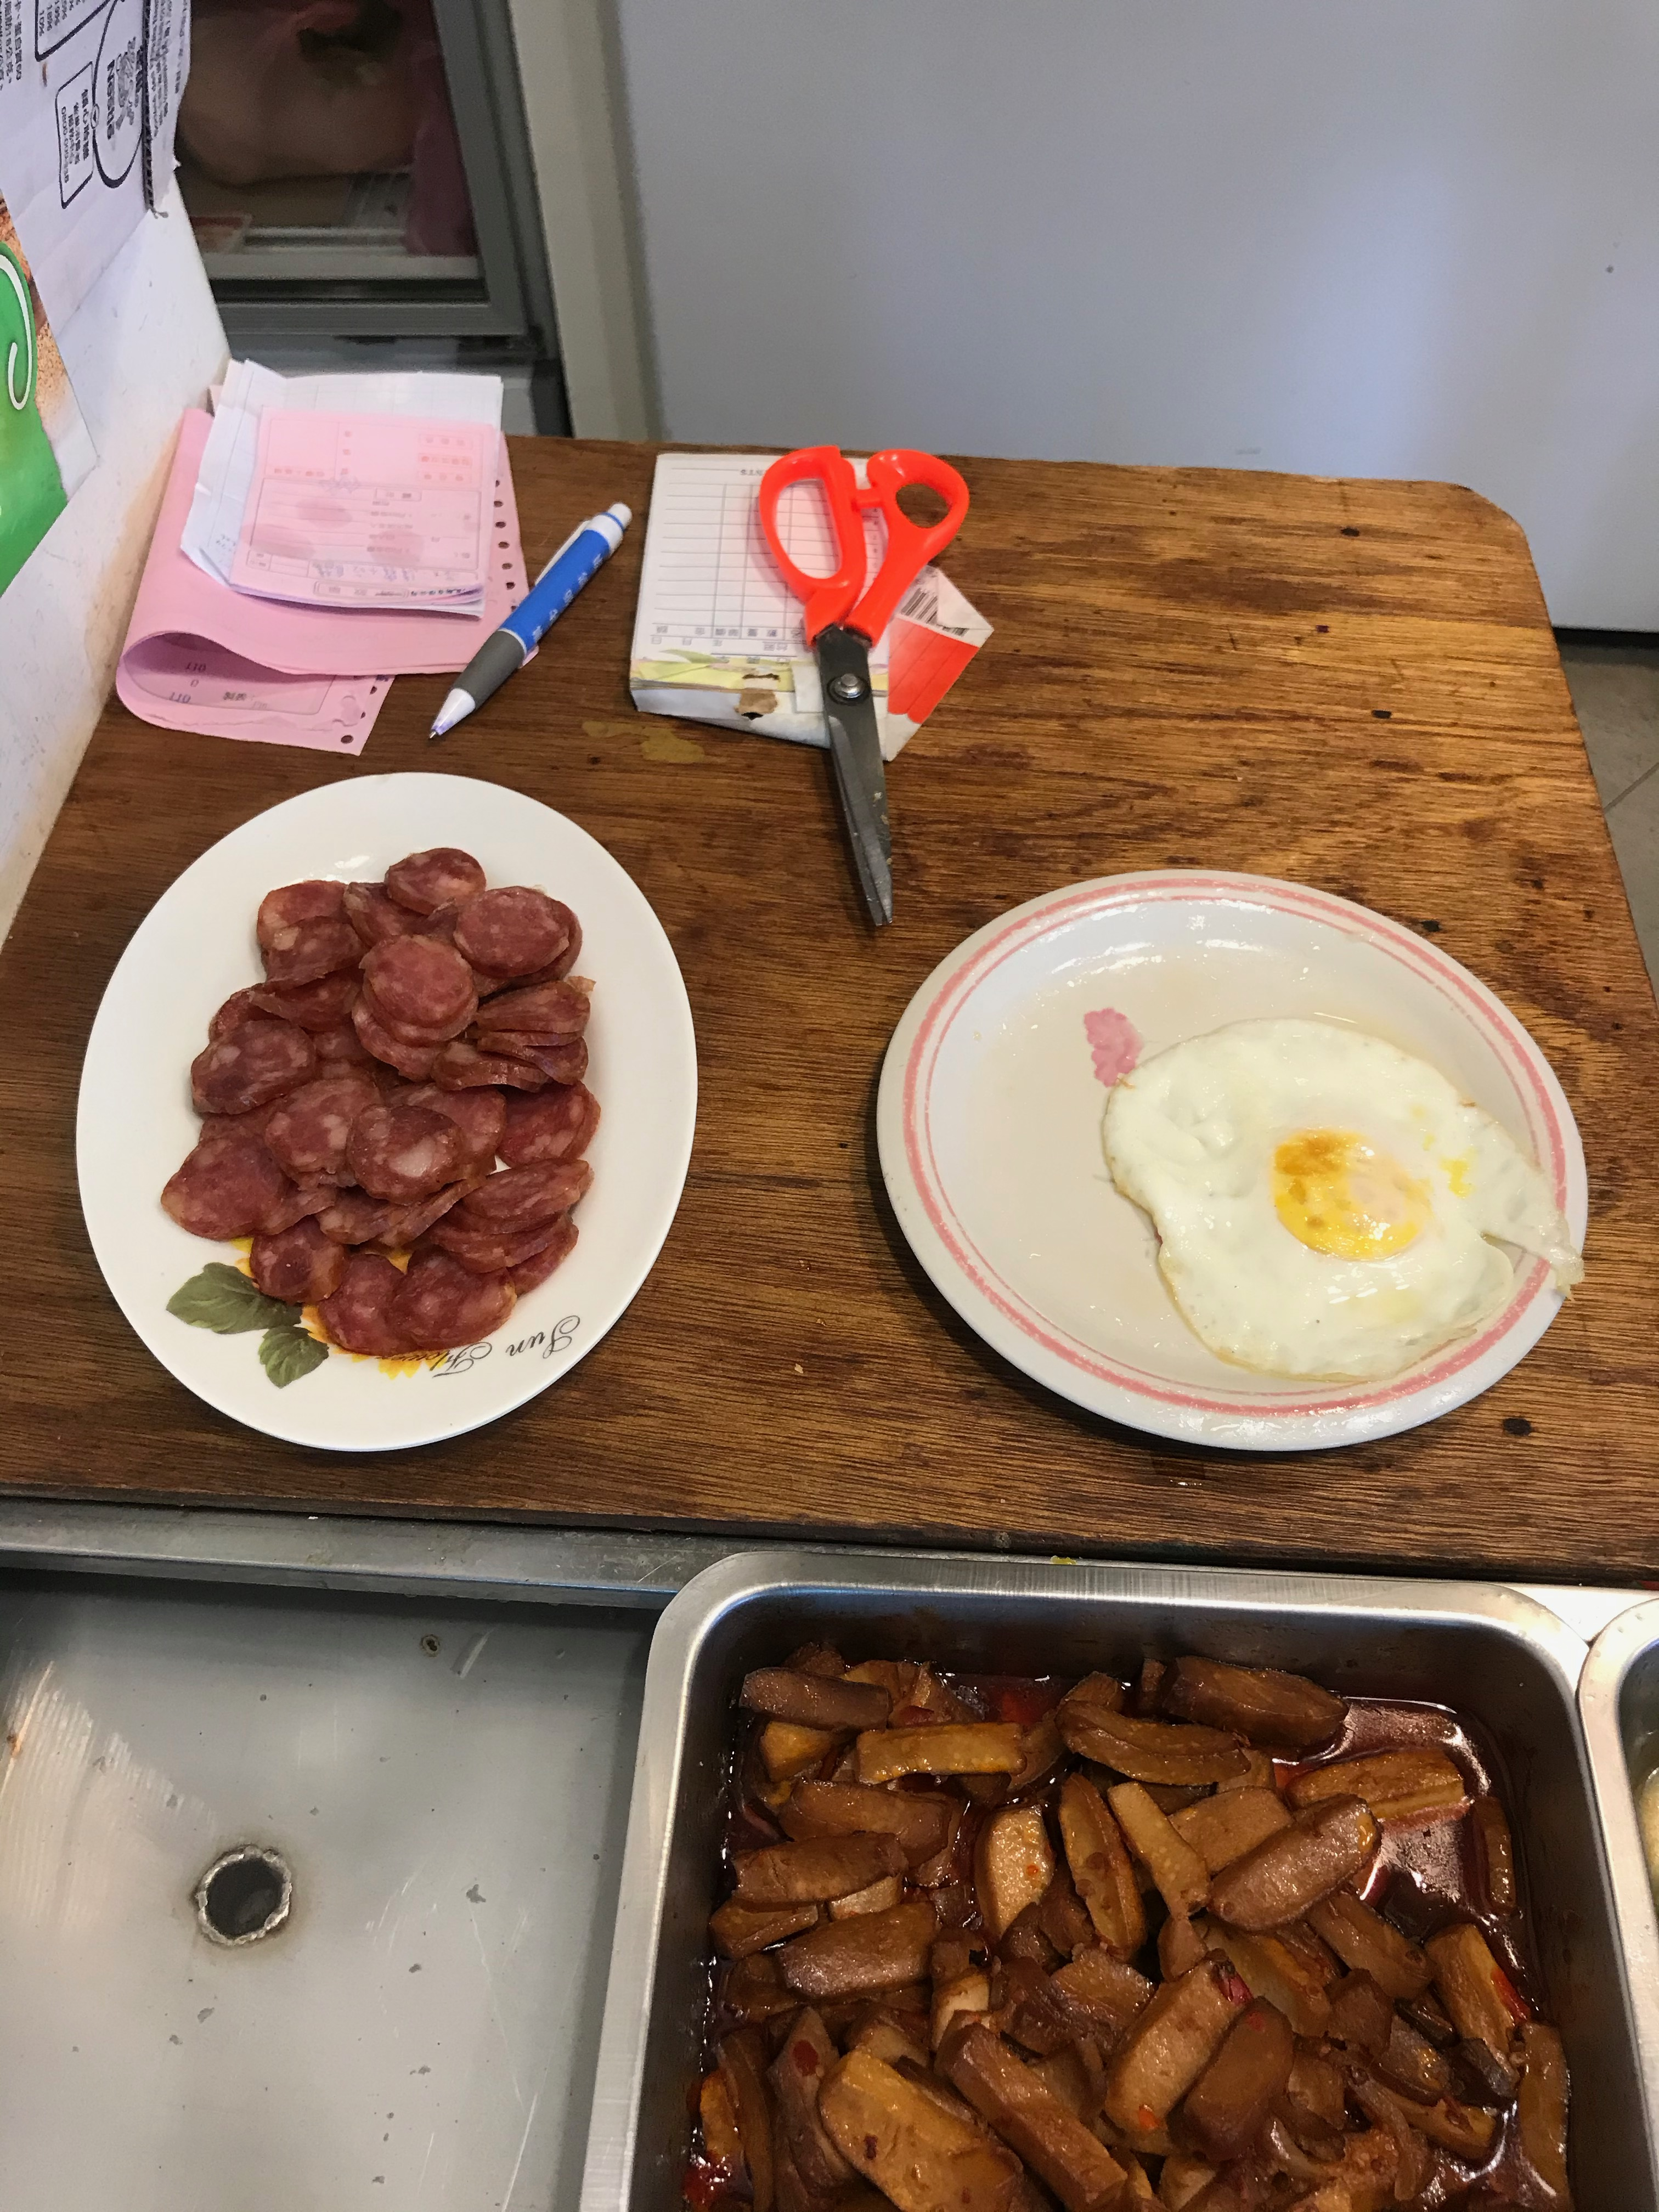chinese_sausage: (204, 853, 586, 1341)
fried_eggs: (1110, 1024, 1523, 1379)
